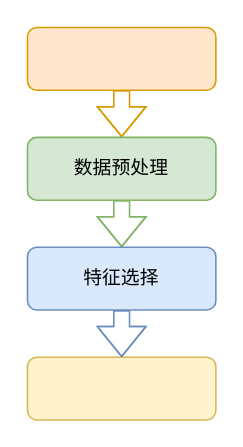
This 243x447 diagram has some shape labels left out. The box of each missing label's shape, as (x1, y1, x2, y2) in pixels:
数据分析: (26, 356, 216, 420)
网络流量数据采集: (26, 26, 216, 90)
